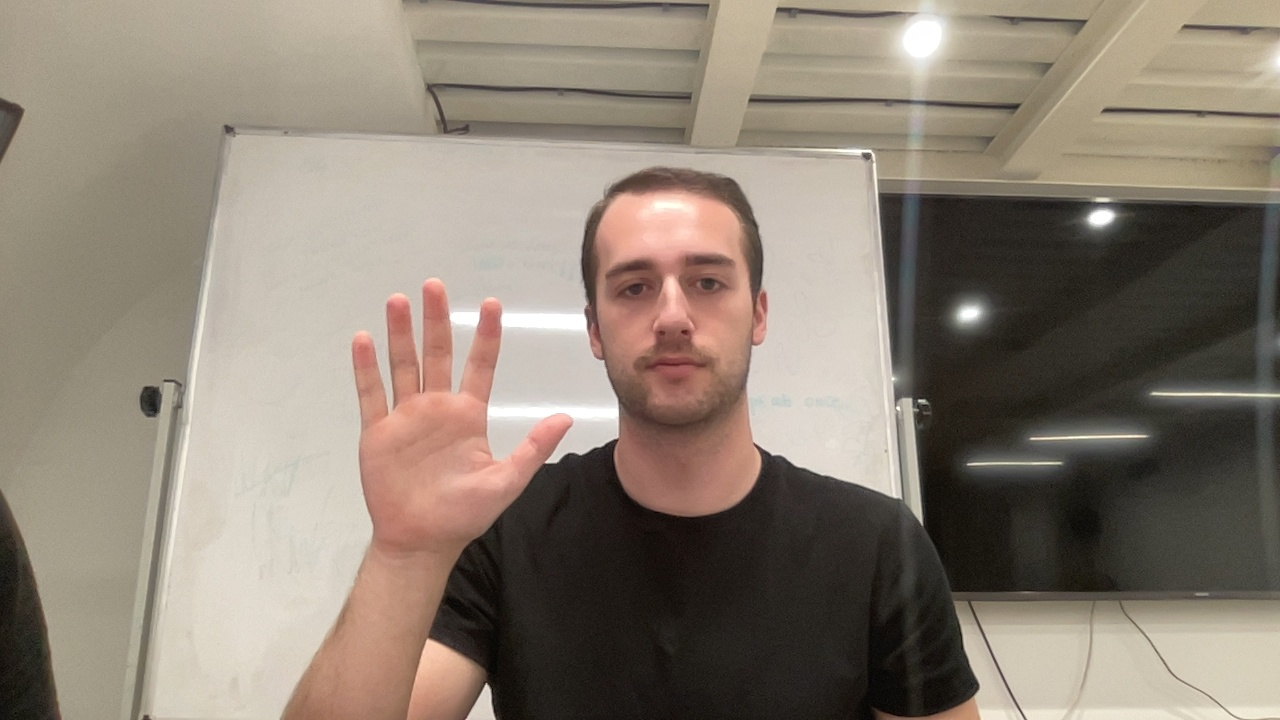Hello: (346, 272, 579, 575)
